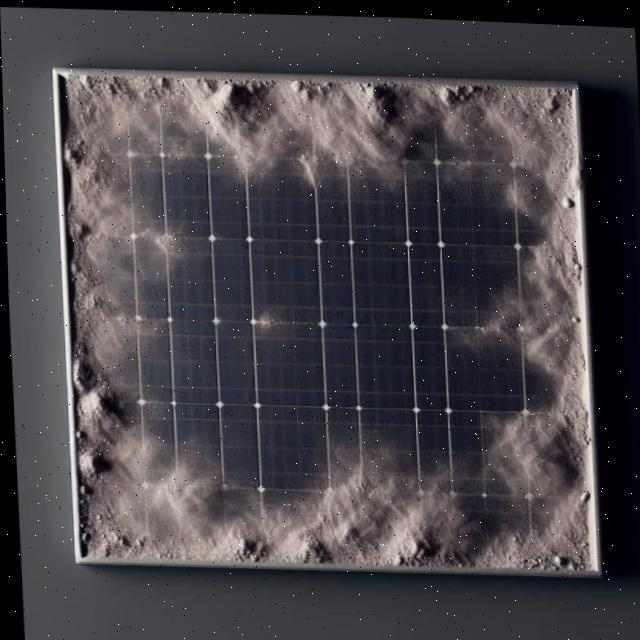Anomaly Solar Panel: (59, 69, 589, 569)
Surface Contaminant: (57, 72, 589, 568), (246, 297, 294, 350)
